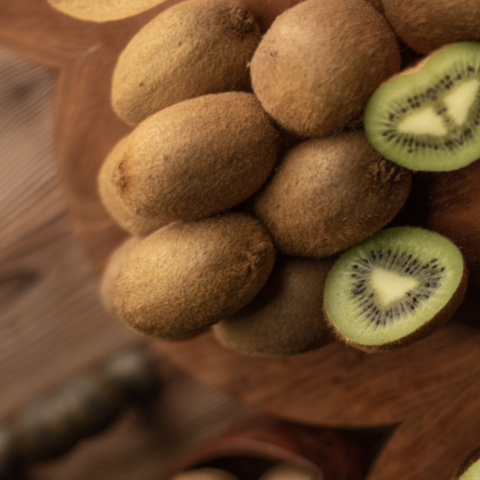kiwi: (84, 63, 303, 271), (231, 95, 443, 297), (82, 183, 295, 380), (218, 0, 429, 175), (80, 0, 298, 154)
